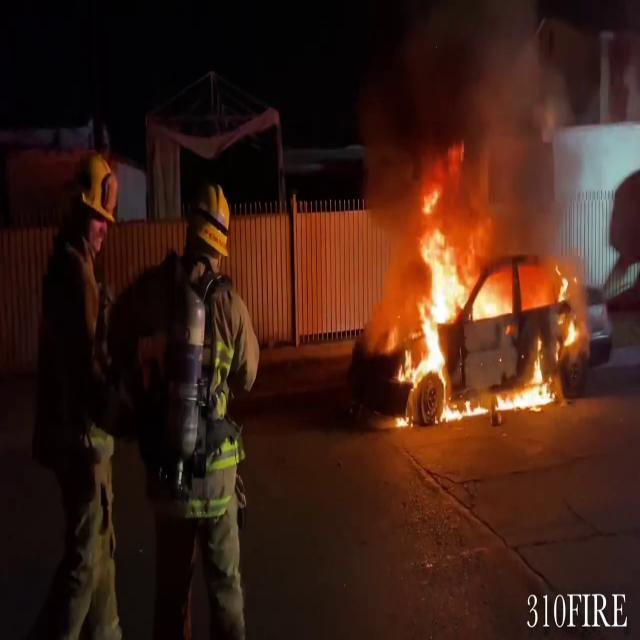Fire: (389, 190, 579, 422)
Smoke: (352, 1, 578, 246)
